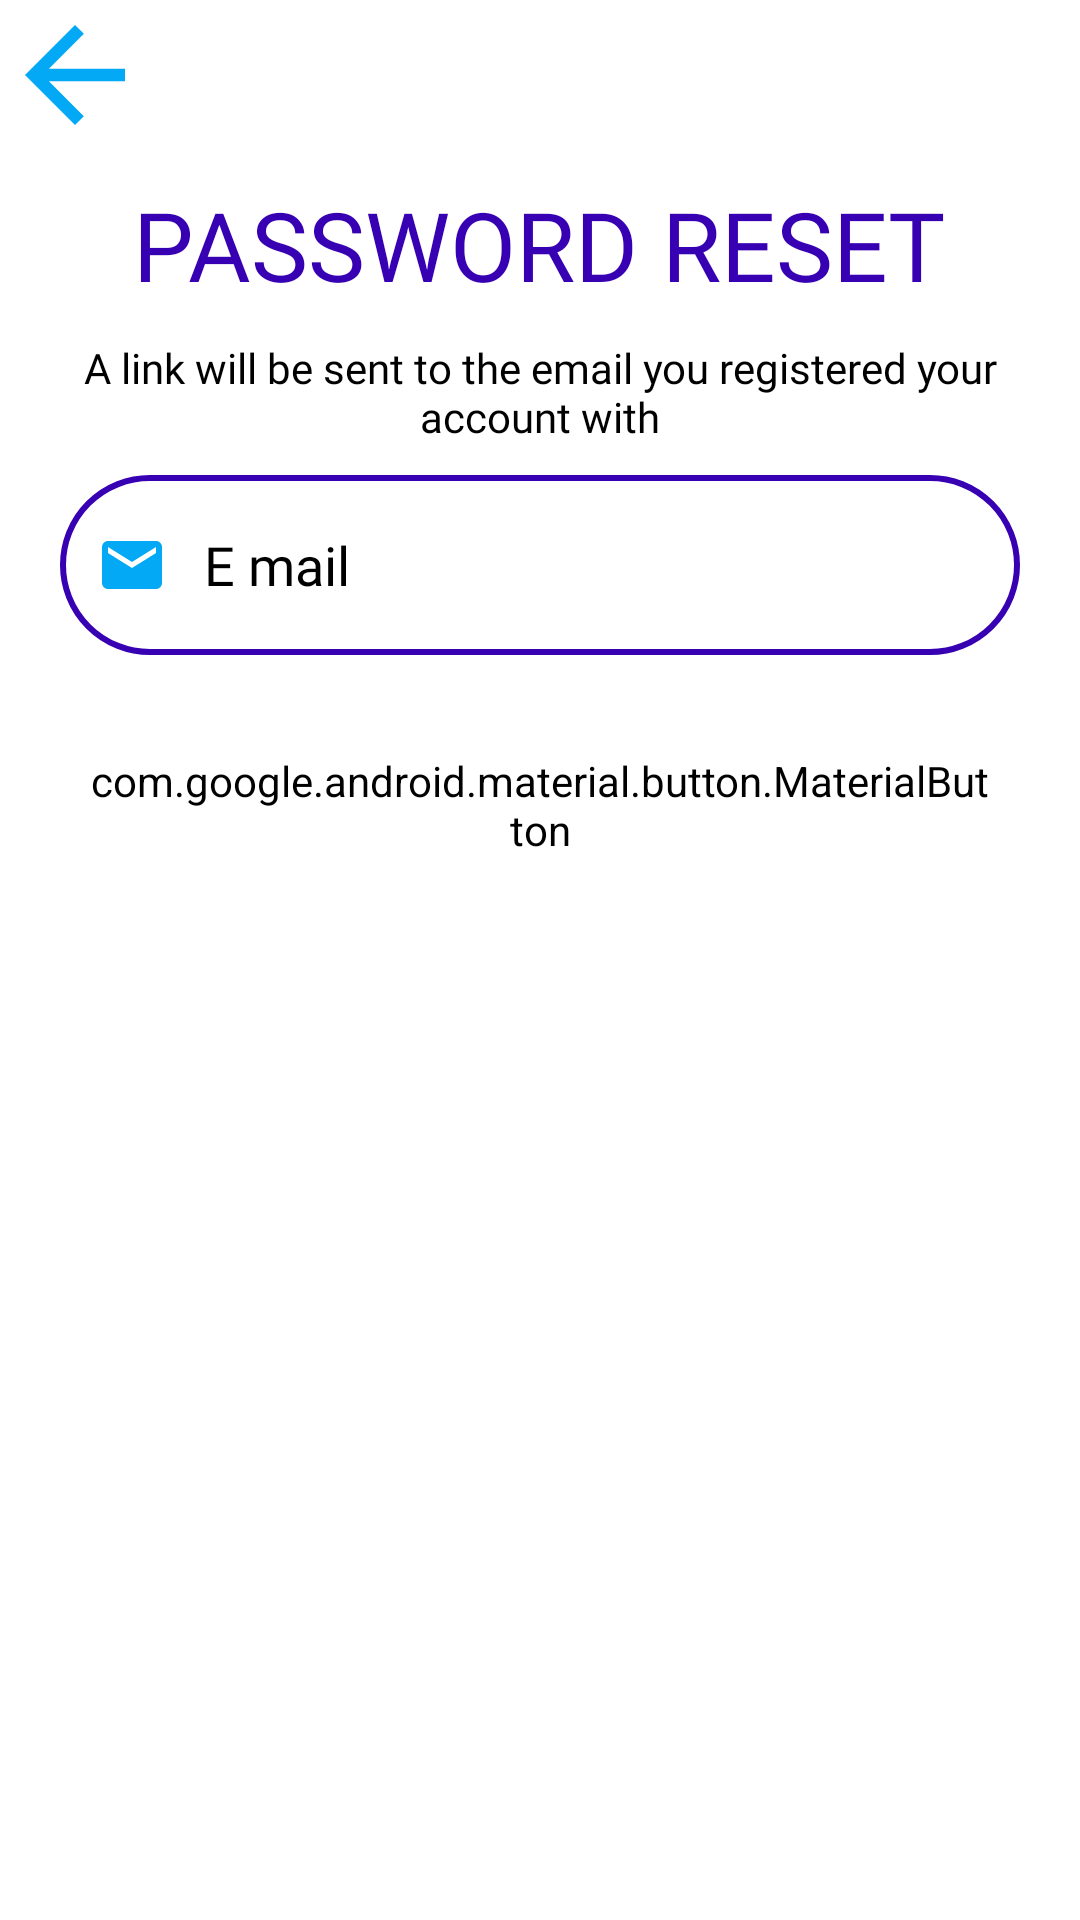

Icons on this 1080*1920 Android screen, each with the point to tap as [x,y]:
arrow back: [75,75]
